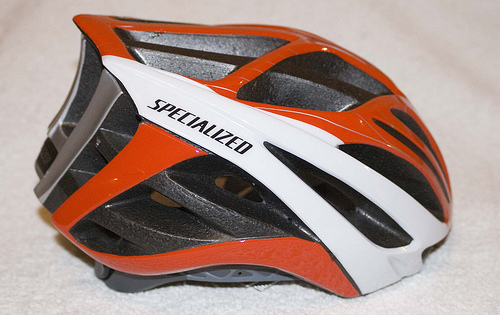helmet: (53, 26, 459, 276)
